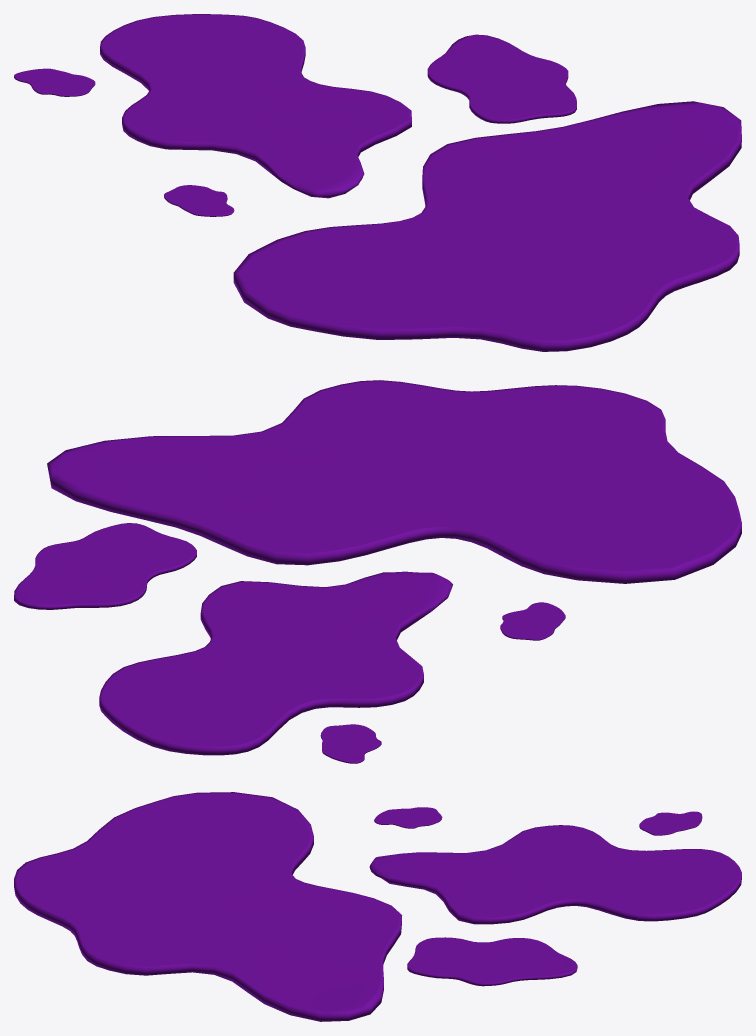
File: Puddles_of_Pollution_Optimized.fbx
The picture shows the model from 3 angles, top to bottom: view 1: azimuth 30°, elevation 25°; view 2: azimuth 150°, elevation 25°; view 3: azimuth 270°, elevation 25°; orthographic projection. The views are drawn at different scales.
Visible parts, largest first — view 1: Puddle.002, Puddle, Puddle.001, Puddle.004, Puddle.003; view 2: Puddle.002, Puddle, Puddle.001, Puddle.003, Puddle.004; view 3: Puddle.002, Puddle, Puddle.001, Puddle.004, Puddle.003.
Part boxes in pixels (x1,y1,x2,y2): Puddle.002: (233,101,741,351); Puddle: (100,14,411,198); Puddle.001: (427,34,576,123); Puddle.004: (14,68,95,96); Puddle.003: (164,185,234,216); Puddle.002: (47,380,741,583); Puddle: (99,571,452,755); Puddle.001: (14,523,196,609); Puddle.003: (500,602,565,640); Puddle.004: (320,724,381,763); Puddle.002: (14,792,402,1021); Puddle: (369,825,741,924); Puddle.001: (407,937,577,986); Puddle.004: (639,811,702,835); Puddle.003: (374,807,442,828).
Size of the model in its own units: 473 by 9.62 by 654.
